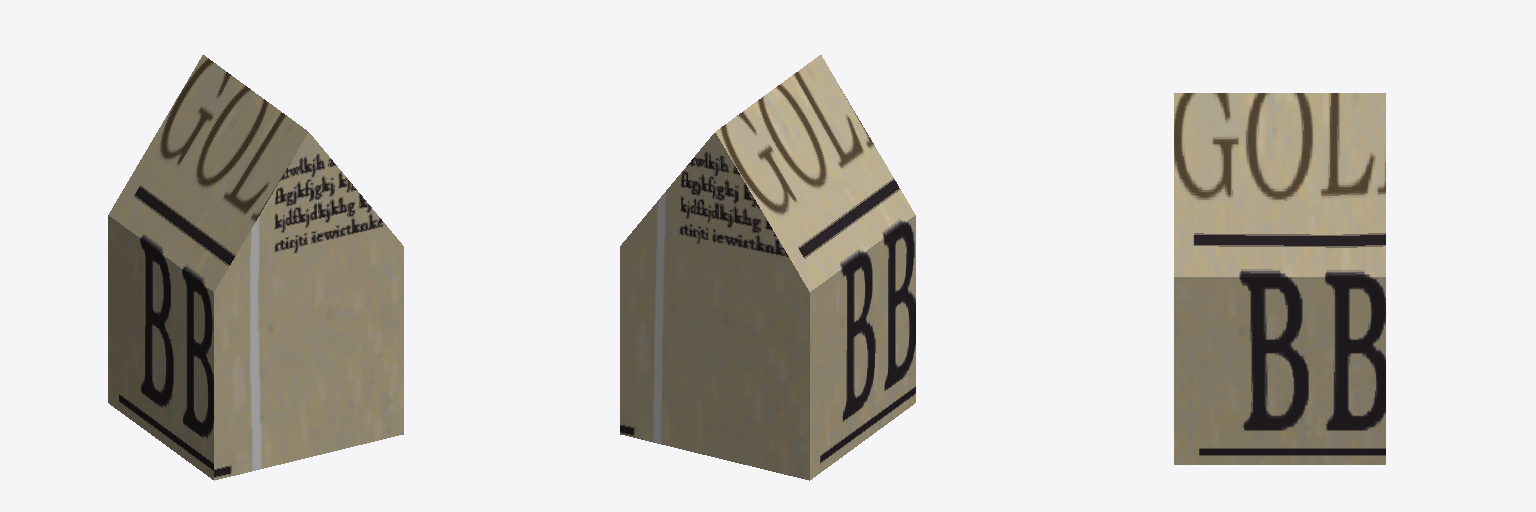
3 renders of one model, left to right at view 1: azimuth 30°, elevation 25°; view 2: azimuth 150°, elevation 25°; view 3: azimuth 270°, elevation 25°, orthographic.
Visible parts, largest first — view 1: Box01; view 2: Box01; view 3: Box01.
Boxes of the visible parts, <box> form: Box01: <box>108,55,403,480</box>; Box01: <box>620,55,915,480</box>; Box01: <box>1174,93,1385,464</box>.
Size of the model in its own units: 29.99 by 49.23 by 28.99.
Materials: 1 (1 with a texture image).